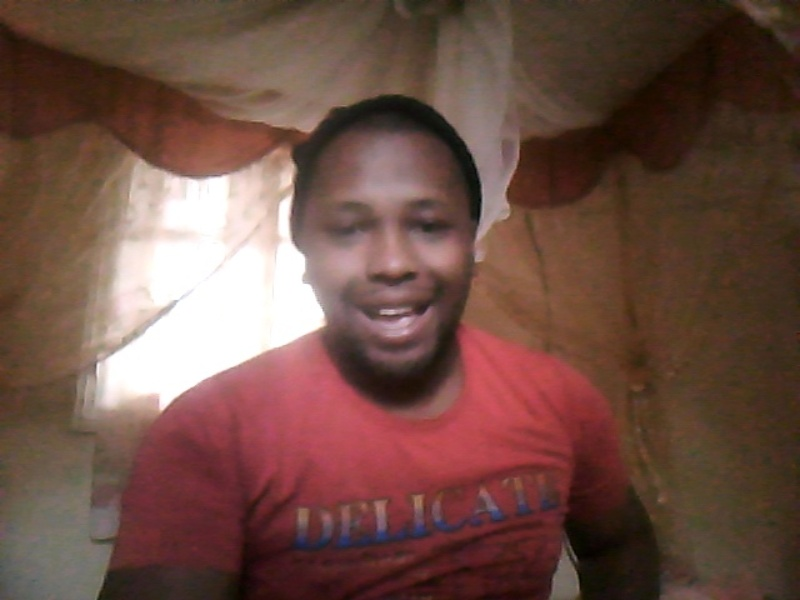TsisyArotava: (284, 92, 492, 405)
